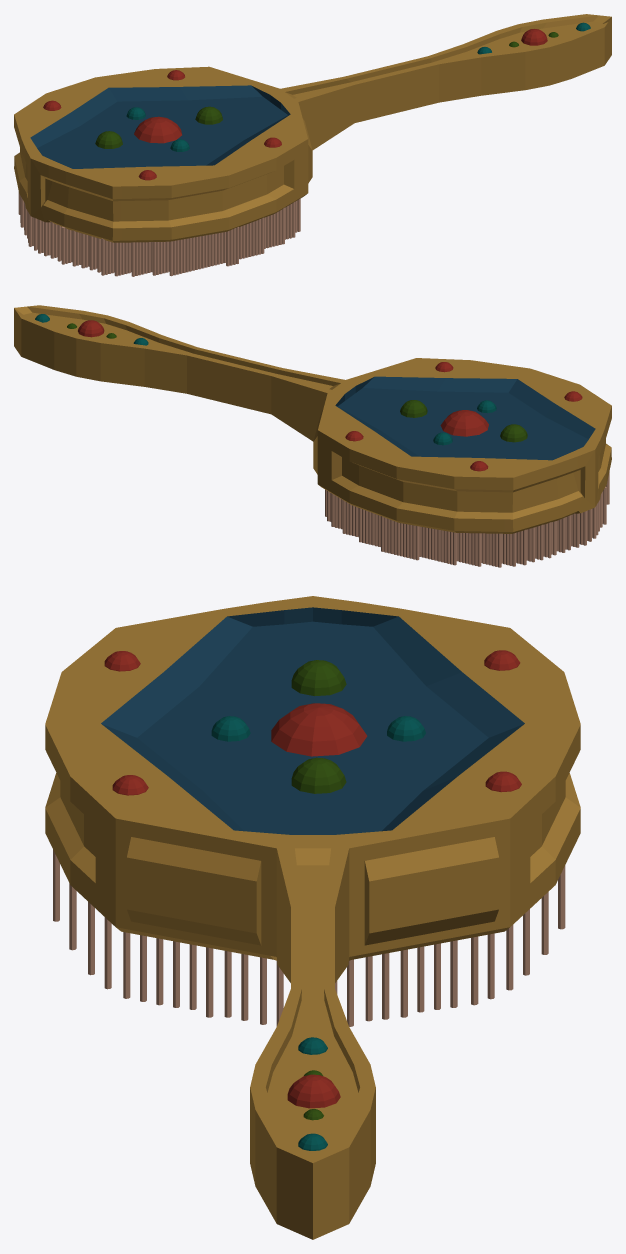
Rendered from hairbrush.glb.
The picture shows the model from 3 angles, top to bottom: view 1: azimuth 30°, elevation 25°; view 2: azimuth 150°, elevation 25°; view 3: azimuth 270°, elevation 25°; orthographic projection. The views are drawn at different scales.
Parts seen in each view (by area): view 1: Cube, Cylinder.030, Cylinder.029, Cylinder.028, Sphere.005, Cylinder.027, Cylinder.026, Cylinder.031, Cylinder.005, Sphere.006, Sphere.007; view 2: Cube, Cylinder.019, Cylinder.020, Cylinder.018, Cylinder.021, Sphere.005, Cylinder.022, Cylinder.023, Sphere.007, Sphere.006; view 3: Cube, Sphere.005, Sphere.007, Sphere.006, Sphere.
Part boxes in pixels (left/top/right/bottom): Cube: left=14, top=14, right=611, bottom=242; Cylinder.030: left=169, top=217, right=264, bottom=276; Cylinder.029: left=152, top=207, right=284, bottom=275; Cylinder.028: left=131, top=202, right=295, bottom=276; Sphere.005: left=134, top=116, right=182, bottom=143; Cylinder.027: left=114, top=198, right=300, bottom=276; Cylinder.026: left=101, top=238, right=114, bottom=275; Cylinder.031: left=226, top=227, right=238, bottom=266; Cylinder.005: left=61, top=226, right=72, bottom=264; Sphere.006: left=195, top=106, right=222, bottom=124; Sphere.007: left=95, top=131, right=122, bottom=148; Cube: left=14, top=305, right=611, bottom=533; Cylinder.019: left=359, top=508, right=456, bottom=565; Cylinder.020: left=342, top=500, right=481, bottom=566; Cylinder.018: left=381, top=516, right=419, bottom=560; Cylinder.021: left=331, top=493, right=501, bottom=567; Sphere.005: left=440, top=410, right=488, bottom=436; Cylinder.022: left=327, top=491, right=515, bottom=566; Cylinder.023: left=325, top=489, right=526, bottom=565; Sphere.007: left=500, top=424, right=527, bottom=442; Sphere.006: left=400, top=400, right=427, bottom=417; Cube: left=45, top=596, right=580, bottom=1239; Sphere.005: left=271, top=703, right=367, bottom=756; Sphere.007: left=291, top=660, right=346, bottom=696; Sphere.006: left=291, top=757, right=346, bottom=793; Sphere: left=287, top=1074, right=340, bottom=1108.
Bounding box in the file's own units: 2.18 × 0.358 × 0.8717.
